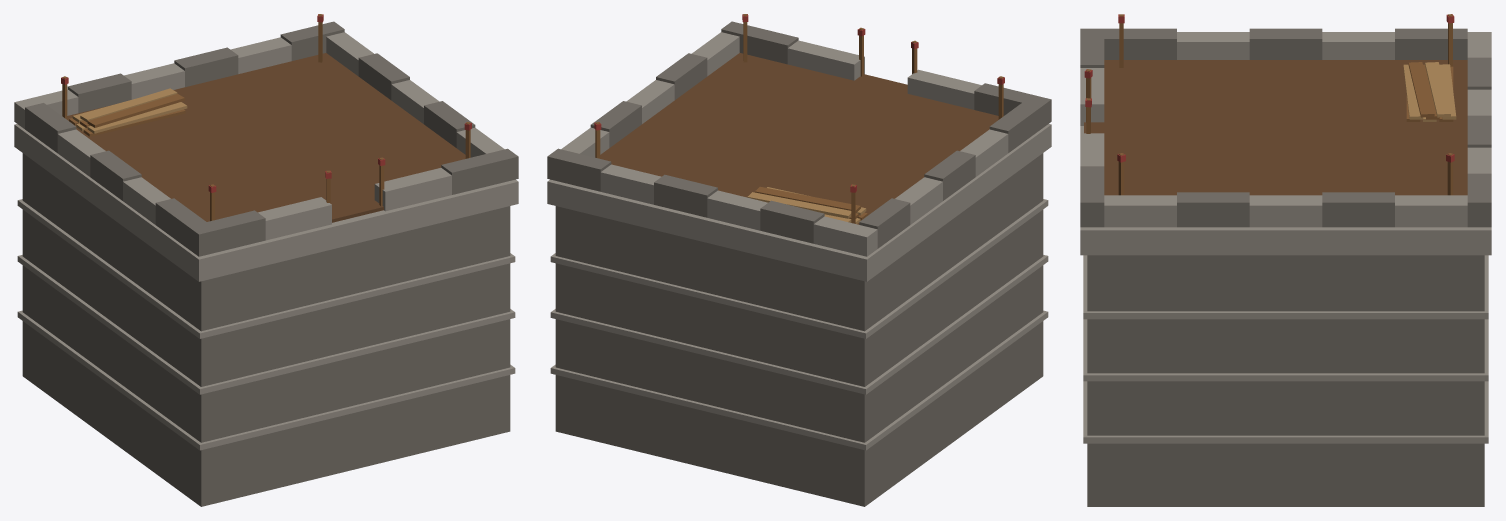
The model's file is site_6x6_1.glb.
3 views of the same model, side by side, from view 1: azimuth 30°, elevation 25°; view 2: azimuth 150°, elevation 25°; view 3: azimuth 270°, elevation 25° (orthographic). The views are drawn at different scales.
Visible parts, largest first — view 1: site_6x6_1; view 2: site_6x6_1; view 3: site_6x6_1.
Part boxes in pixels (left/top/right/bottom): site_6x6_1: left=14, top=14, right=518, bottom=506; site_6x6_1: left=547, top=14, right=1051, bottom=506; site_6x6_1: left=1080, top=14, right=1491, bottom=506.
Bounding box in the file's own units: 6 × 5.45 × 6.
